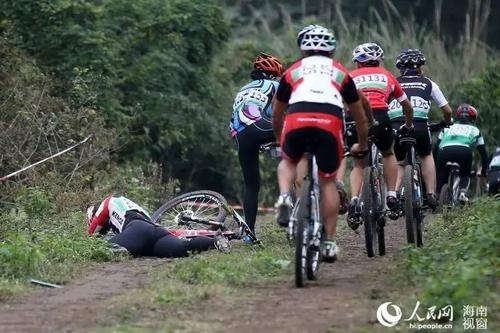falling: (76, 188, 231, 263)
